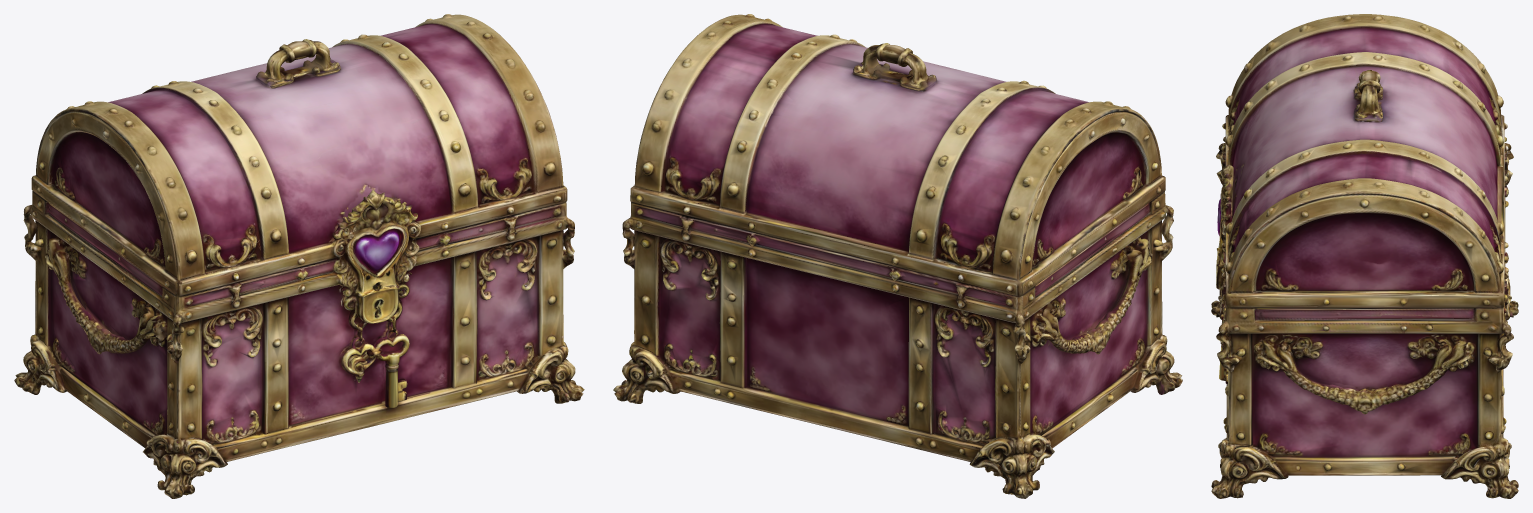
File: pixellabs-treasure-chest-3502.glb
3 renders of one model, left to right at view 1: azimuth 30°, elevation 25°; view 2: azimuth 150°, elevation 25°; view 3: azimuth 270°, elevation 25°, orthographic. The views are drawn at different scales.
Parts seen in each view (by area): view 1: material; view 2: material; view 3: material.
Boxes of the visible parts, x1,y1,x2,y2 form: material: (14, 14, 584, 498); material: (613, 14, 1182, 498); material: (1211, 14, 1518, 498).
Bounding box in the file's own units: 0.8513 × 0.6782 × 0.5711.
Materials: 1 (1 with a texture image).
